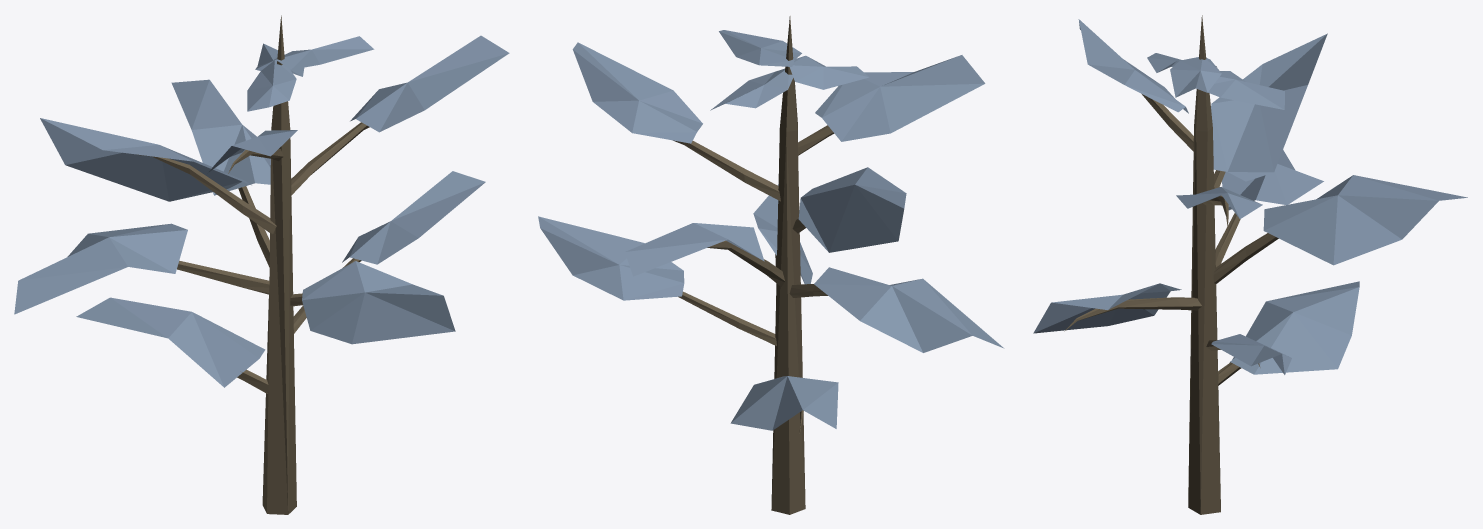
File: Blue_Spruce_4_1.fbx
3 views of the same model, side by side, from view 1: azimuth 30°, elevation 25°; view 2: azimuth 150°, elevation 25°; view 3: azimuth 270°, elevation 25° (orthographic).
Parts seen in each view (by area): view 1: Spurce_4_1; view 2: Spurce_4_1; view 3: Spurce_4_1.
Part boxes in pixels (left/top/right/bottom): Spurce_4_1: left=14, top=15, right=509, bottom=514; Spurce_4_1: left=538, top=16, right=1004, bottom=514; Spurce_4_1: left=1033, top=15, right=1467, bottom=514.
Bounding box in the file's own units: 386 × 388 × 310.
